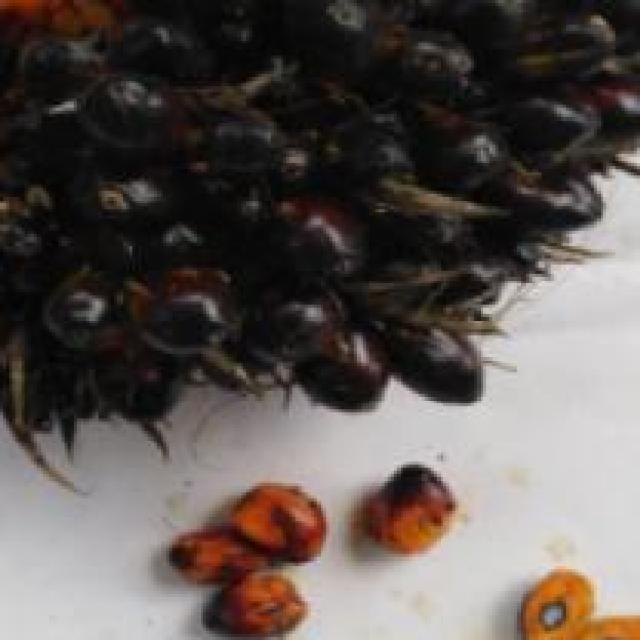unripe: (0, 0, 640, 566)
